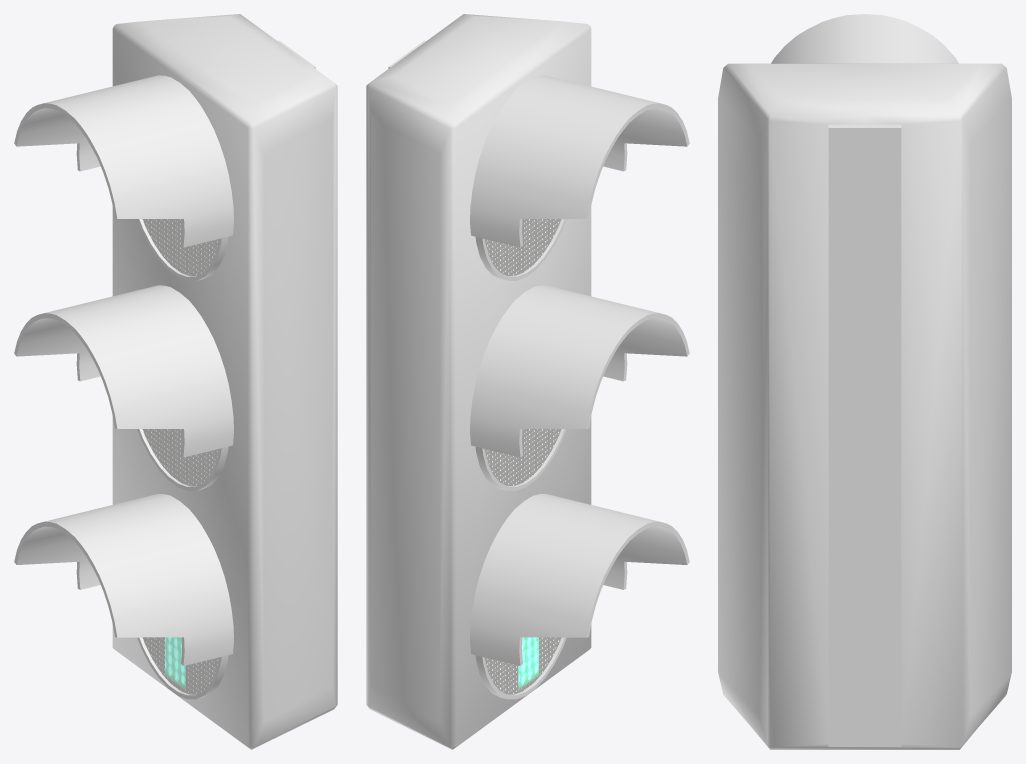
File: 竖排直行灯_GreenLight.glb
3 renders of one model, left to right at view 1: azimuth 30°, elevation 25°; view 2: azimuth 150°, elevation 25°; view 3: azimuth 270°, elevation 25°, orthographic.
Visible parts, largest first — view 1: 竖排直行灯_GreenLight; view 2: 竖排直行灯_GreenLight; view 3: 竖排直行灯_GreenLight.
Part boxes in pixels (<box>): 竖排直行灯_GreenLight: <box>14,14,337,749</box>; 竖排直行灯_GreenLight: <box>366,14,689,749</box>; 竖排直行灯_GreenLight: <box>718,14,1011,749</box>.
Bounding box in the file's own units: 0.6001 × 1.58 × 0.65.
Materials: 3 (2 with a texture image).
